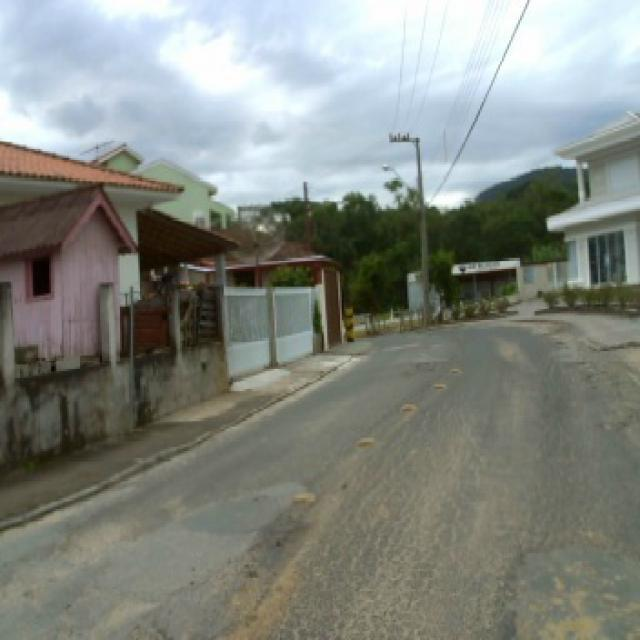Poth-hole: (488, 526, 636, 636), (286, 487, 318, 502), (594, 418, 626, 431), (353, 432, 378, 444), (413, 358, 436, 371), (396, 398, 419, 409), (550, 338, 568, 349), (429, 380, 449, 389), (445, 364, 462, 374), (570, 358, 588, 364), (584, 371, 592, 378), (588, 382, 596, 389)
